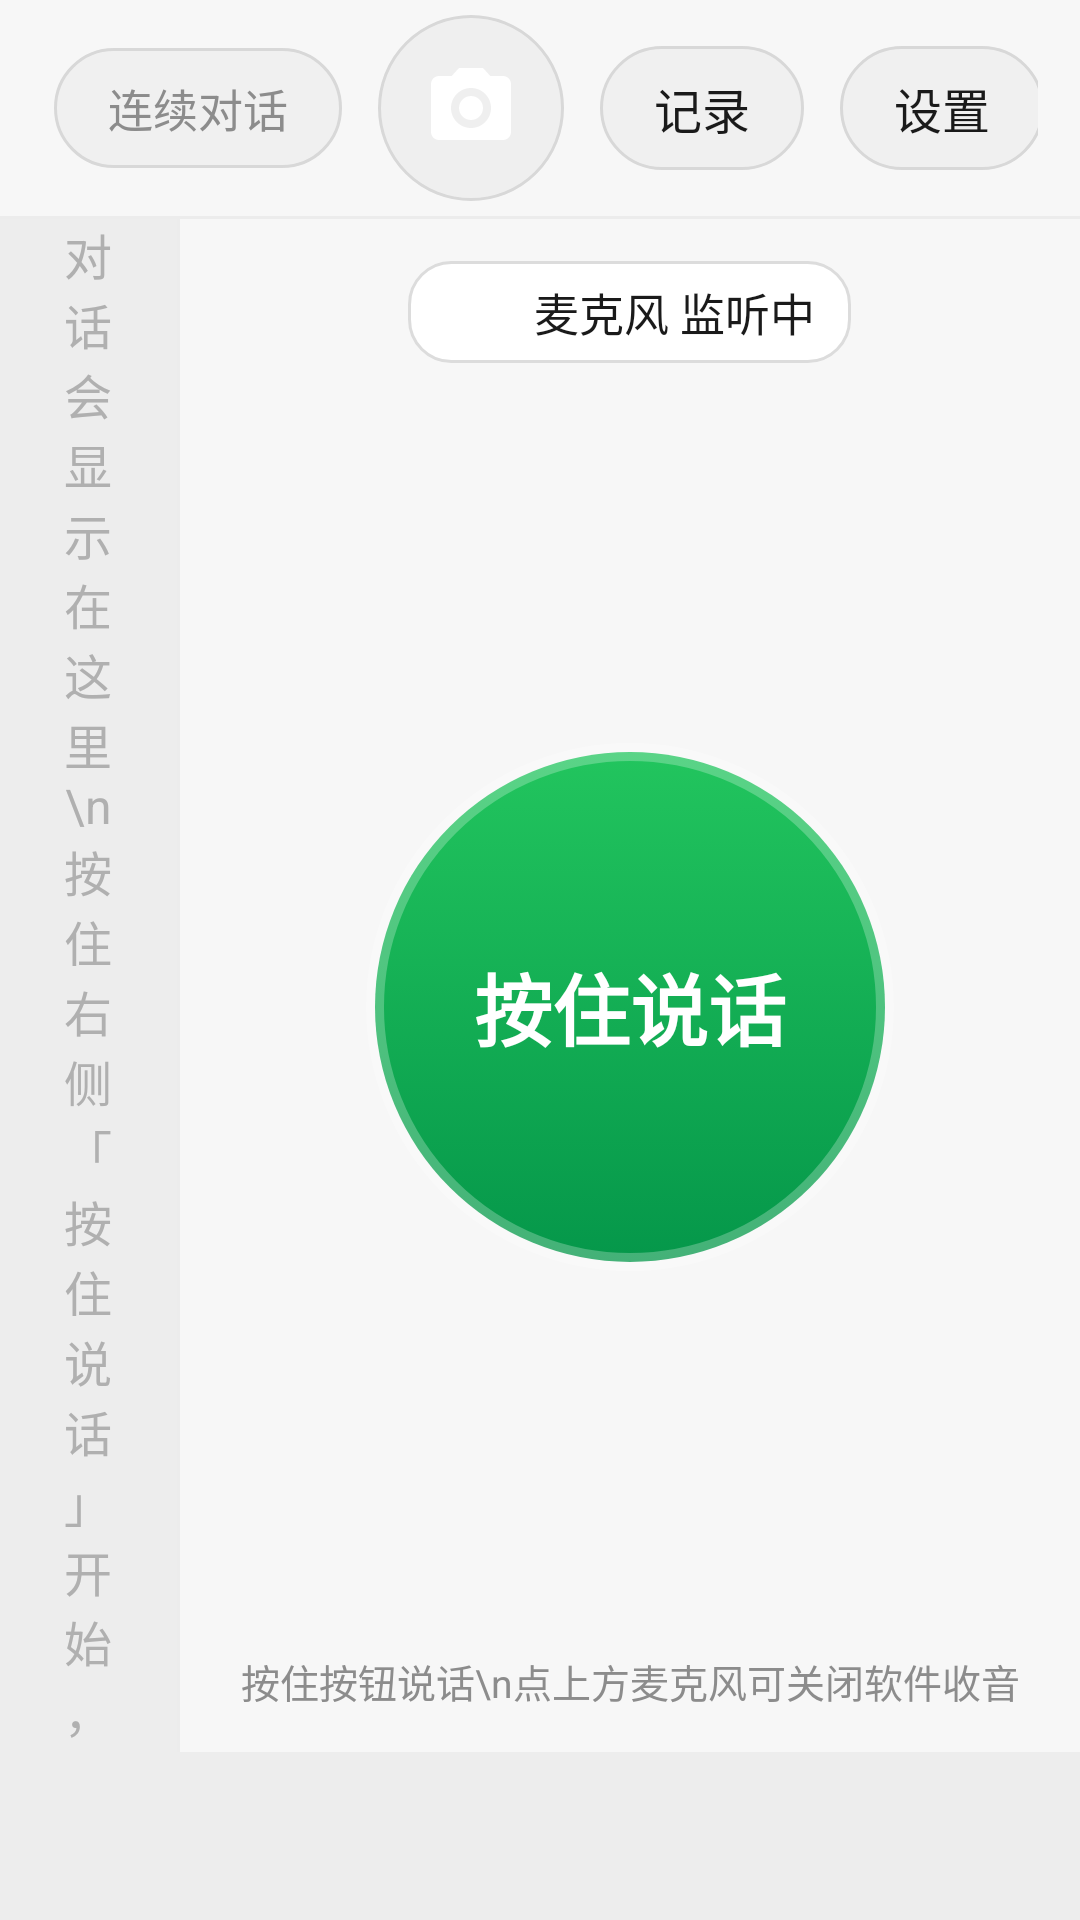

Screen size 1080 × 1920. Icon name, then its box in pixels as rect(x1, y1, x2, y2):
摄像头: rect(378, 15, 564, 201)
